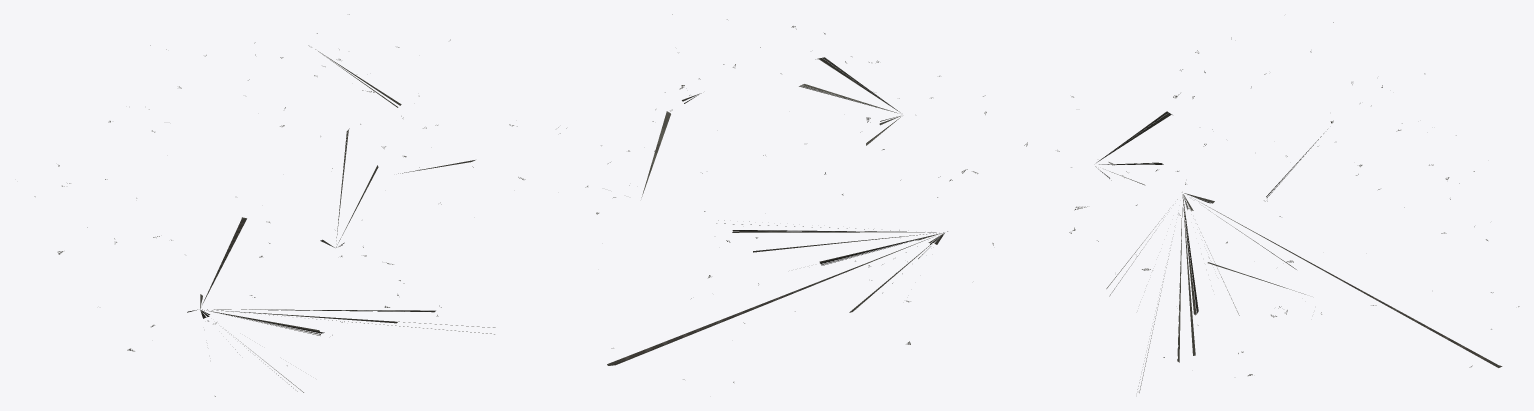
Rendered from char_shrub_01.glb.
The picture shows the model from 3 angles, left to right: view 1: azimuth 30°, elevation 25°; view 2: azimuth 150°, elevation 25°; view 3: azimuth 270°, elevation 25°; orthographic projection. The views are drawn at different scales.
Parts seen in each view (by area): view 1: geometry_0; view 2: geometry_0; view 3: geometry_0.
Part boxes in pixels (x1,y1,x2,y2): geometry_0: (34, 14, 525, 396); geometry_0: (558, 14, 993, 382); geometry_0: (1024, 22, 1519, 392).
Size of the model in its own units: 0.9218 by 0.5689 by 0.8796.
Materials: 1 (1 with a texture image).
